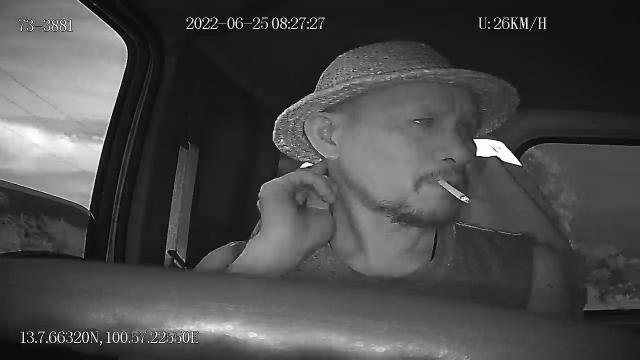Cigarette: (433, 176, 471, 206)
